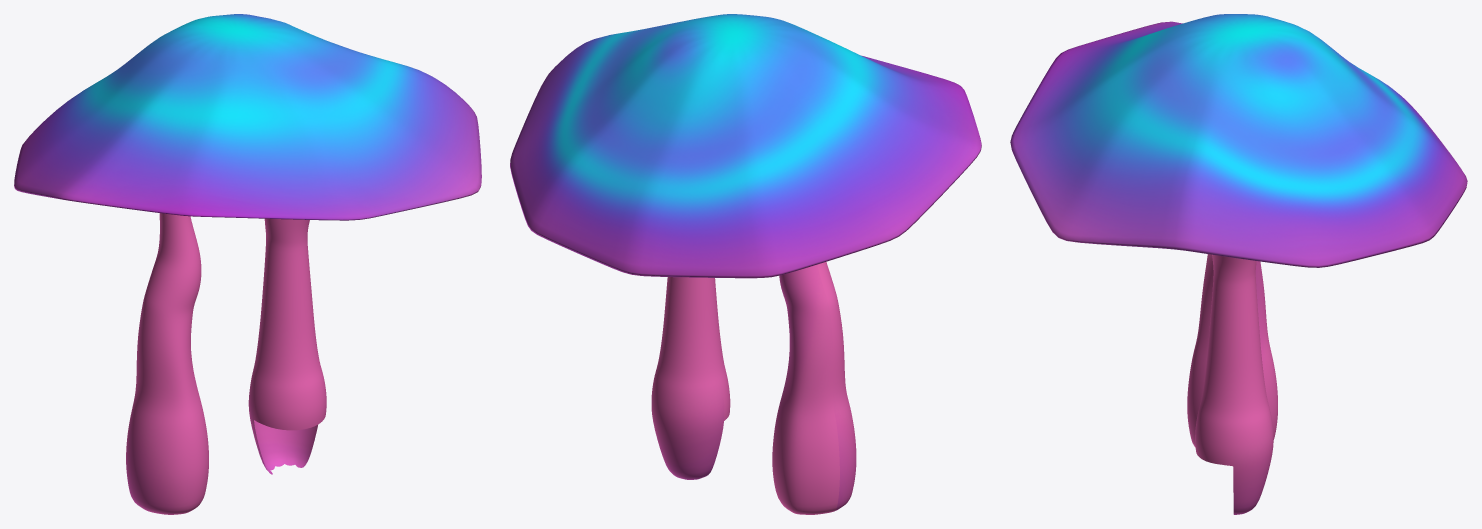
The model's file is twins.fbx.
3 views of the same model, side by side, from view 1: azimuth 30°, elevation 25°; view 2: azimuth 150°, elevation 25°; view 3: azimuth 270°, elevation 25° (orthographic).
Parts seen in each view (by area): view 1: Smol Cap; view 2: Smol Cap; view 3: Smol Cap.
Boxes of the visible parts, left/top/right/bottom form: Smol Cap: left=14, top=14, right=481, bottom=514; Smol Cap: left=510, top=14, right=981, bottom=514; Smol Cap: left=1010, top=14, right=1467, bottom=514.
Size of the model in its own units: 1050 by 1087 by 986.
